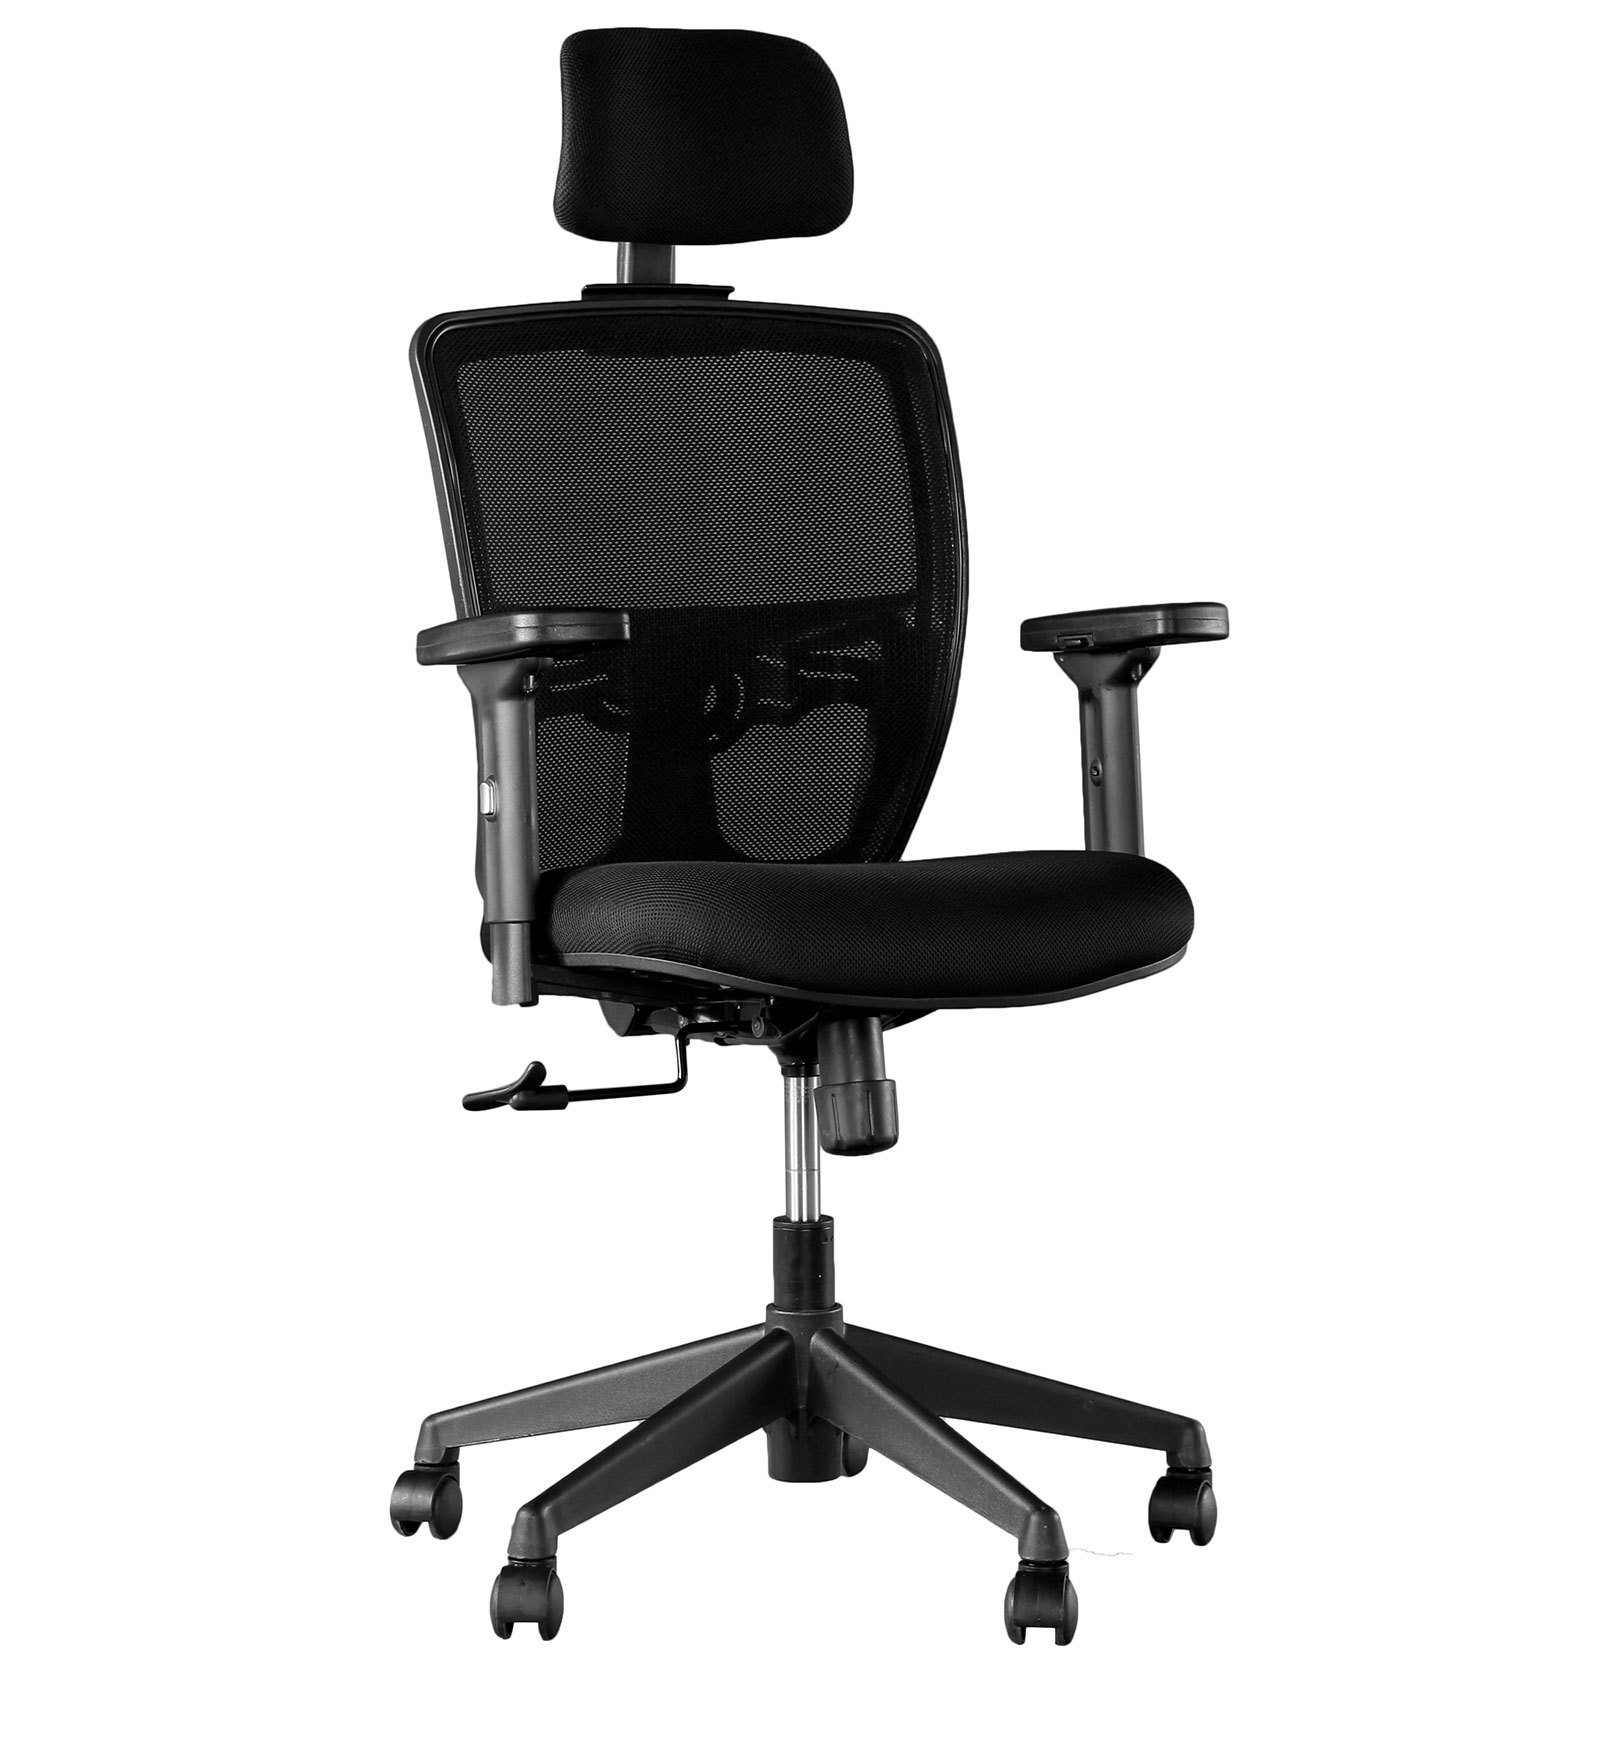Aspire High Back Ergonomic Chair in Black Colour by HomeTown: (346, 23, 1270, 1689)
